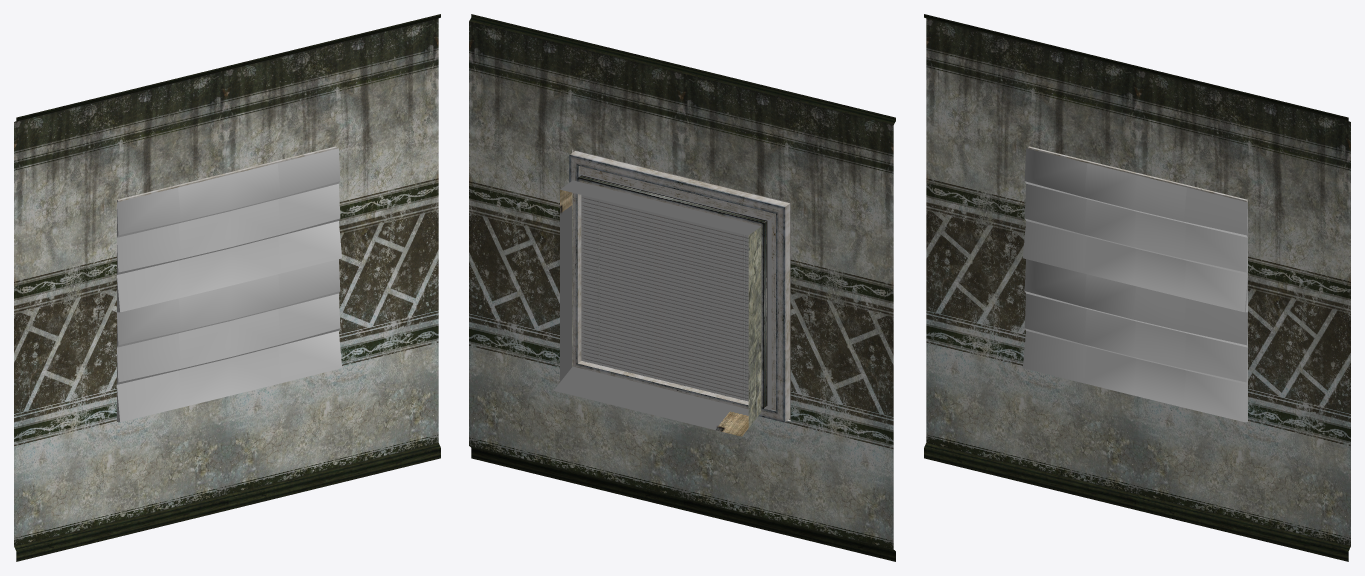
File: waitingroom_damaged_flat_window.dae
3 views of the same model, side by side, from view 1: azimuth 30°, elevation 25°; view 2: azimuth 150°, elevation 25°; view 3: azimuth 330°, elevation 25° (orthographic).
Visible parts, largest first — view 1: window, polySurface499; view 2: window, pPlane12, polySurface139; view 3: window, polySurface499.
Part boxes in pixels (bbox=[...]): window: bbox=[14, 14, 440, 561]; polySurface499: bbox=[117, 148, 341, 422]; window: bbox=[469, 14, 895, 561]; pPlane12: bbox=[578, 173, 771, 410]; polySurface139: bbox=[581, 197, 748, 400]; window: bbox=[924, 14, 1350, 561]; polySurface499: bbox=[1023, 148, 1247, 422].
Size of the model in its own units: 4 by 4 by 0.6319.
